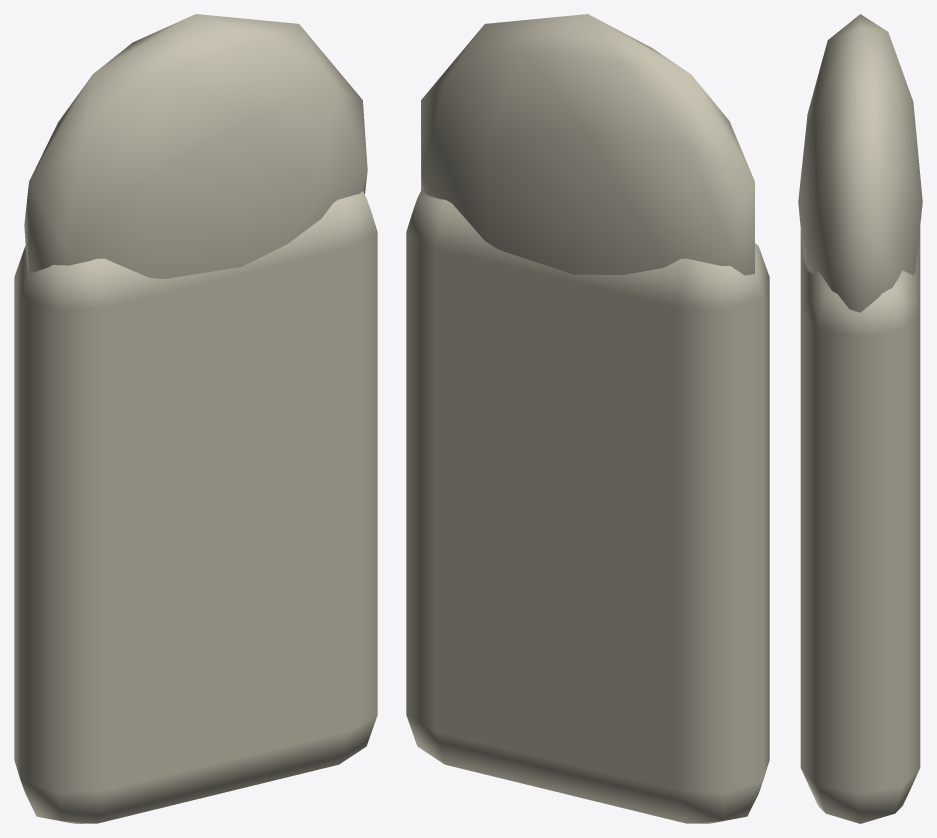
Rendered from gravestone.glb.
The picture shows the model from 3 angles, left to right: view 1: azimuth 30°, elevation 25°; view 2: azimuth 150°, elevation 25°; view 3: azimuth 270°, elevation 25°; orthographic projection. The views are drawn at different scales.
Visible parts, largest first — view 1: gravestone_stone_light; view 2: gravestone_stone_light; view 3: gravestone_stone_light.
Boxes of the visible parts, x1,y1,x2,y2 form: gravestone_stone_light: (14,14,377,823); gravestone_stone_light: (406,14,769,823); gravestone_stone_light: (798,14,922,823).
Size of the model in its own units: 0.8 by 1.7 by 0.26.
